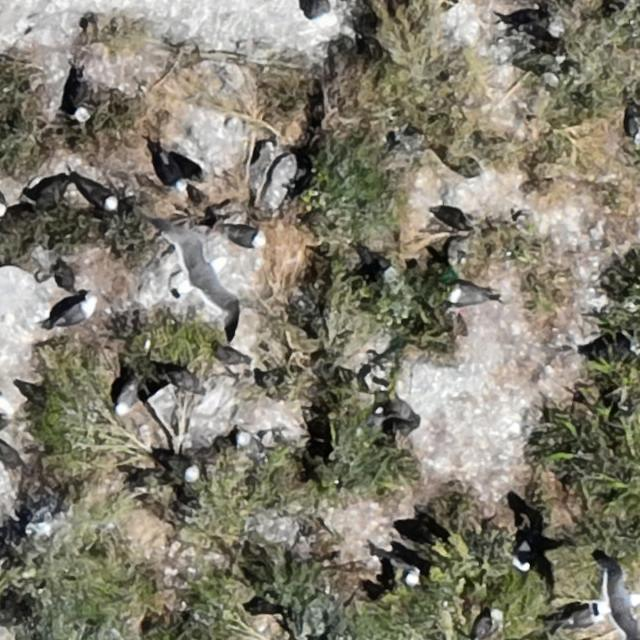F: (166, 234, 235, 328), (596, 568, 634, 638)
umineko: (514, 7, 566, 37), (157, 454, 199, 483), (74, 78, 92, 128), (56, 300, 92, 324), (306, 1, 338, 28), (241, 433, 268, 464), (562, 608, 600, 628), (82, 186, 115, 209), (449, 287, 487, 305), (229, 227, 262, 247), (393, 563, 419, 588), (473, 610, 496, 638), (166, 158, 186, 188), (117, 387, 137, 415), (512, 544, 530, 574)
